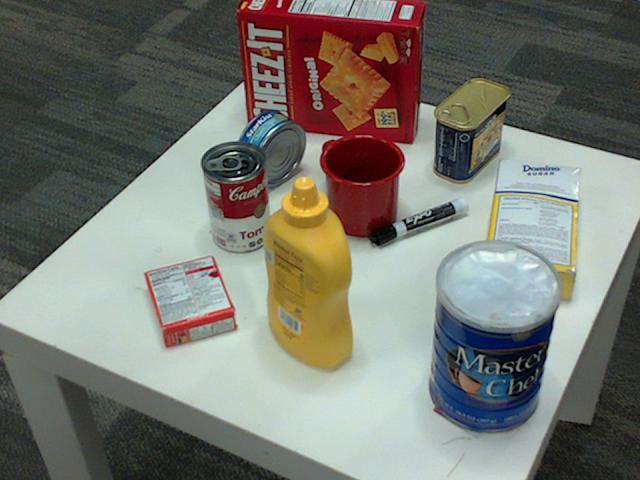cracker_box: (239, 0, 425, 142)
gelatin_box: (140, 254, 233, 347)
large_marker: (370, 201, 469, 245)
master_chef_can: (430, 242, 565, 435)
mug: (317, 132, 404, 236)
mustard_bottle: (263, 178, 352, 369)
potted_meat_can: (432, 80, 508, 184)
sugar_box: (479, 159, 579, 302)
tomato_soup_can: (201, 141, 270, 253)
tuna_fish_can: (234, 109, 305, 187)
